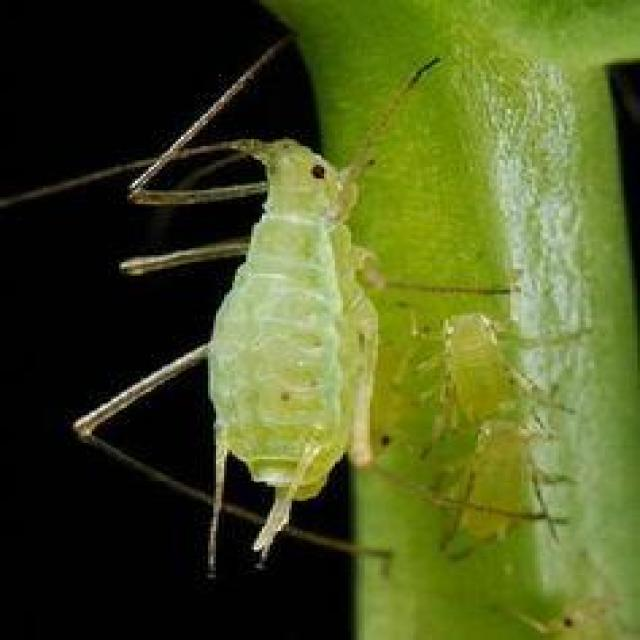Aphids: (55, 66, 455, 590)
